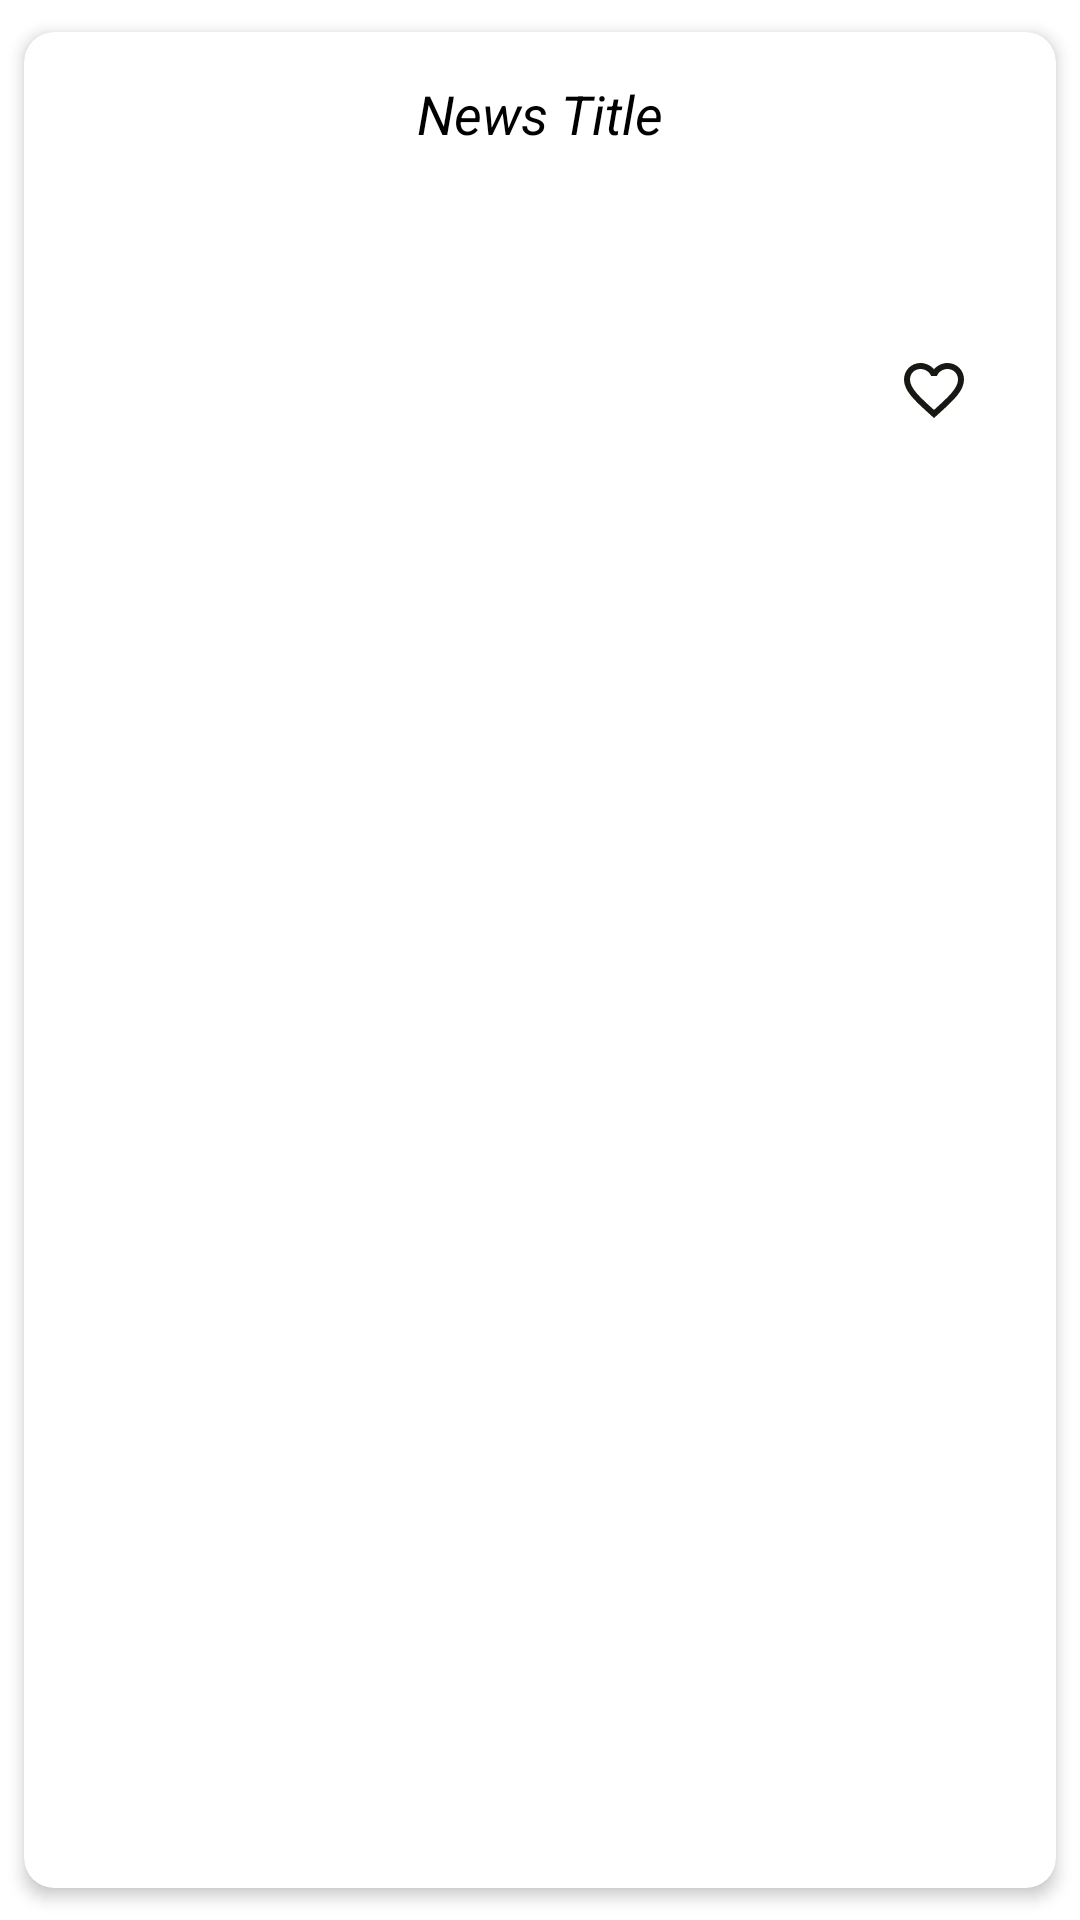

Where icons sit on this 1080w x 1920h app screen, as box(x1, y1, x2, y2):
favorite border: box(904, 363, 964, 418)
